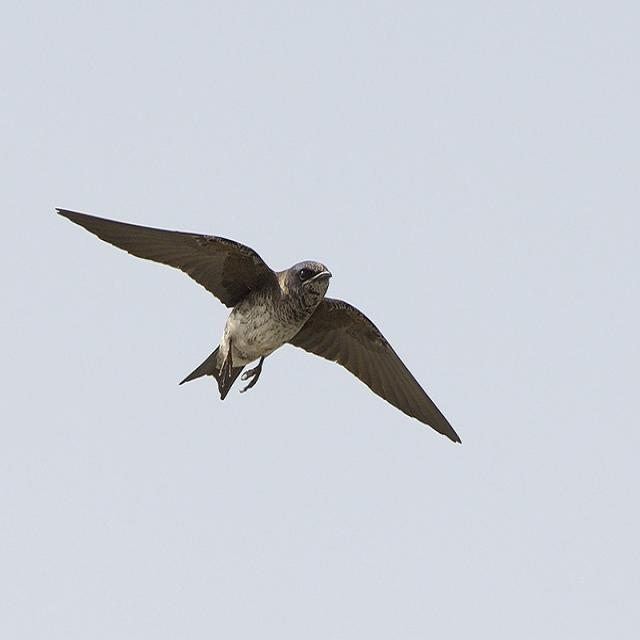bird: (47, 192, 478, 468)
